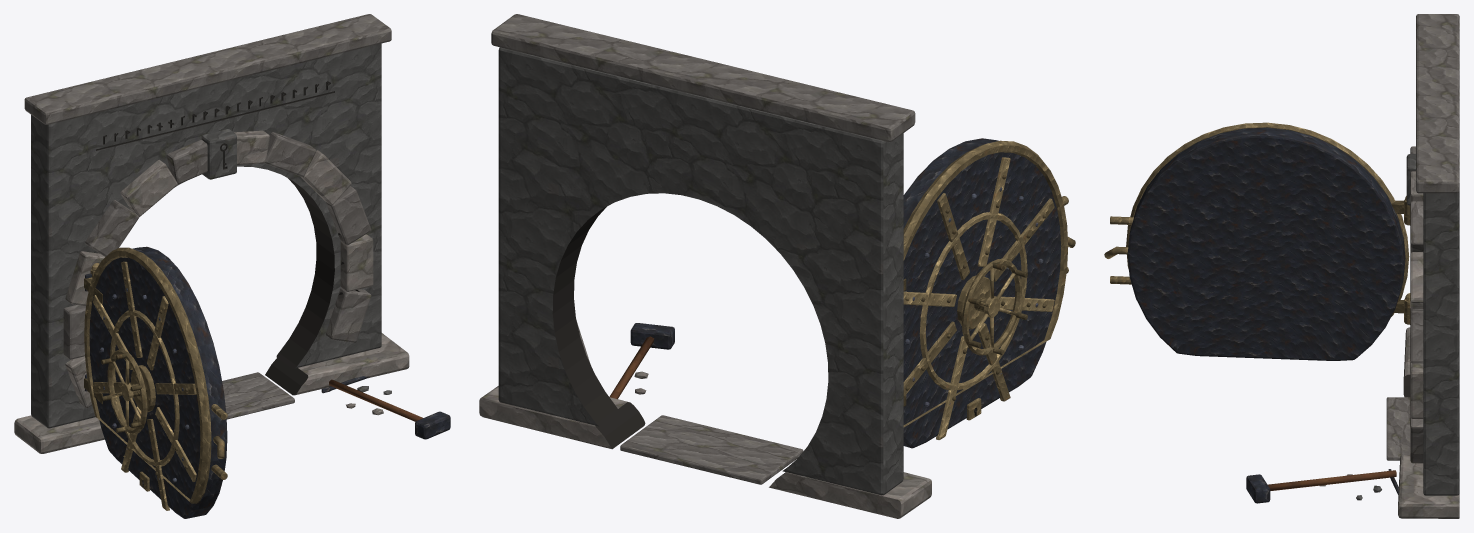
The model's file is bv_vault_door_forced.glb.
The picture shows the model from 3 angles, left to right: view 1: azimuth 30°, elevation 25°; view 2: azimuth 150°, elevation 25°; view 3: azimuth 270°, elevation 25°; orthographic projection. The views are drawn at different scales.
Visible parts, largest first — view 1: model; view 2: model; view 3: model.
Part boxes in pixels (box(x1,y1,x2,y2)): model: box(14, 14, 450, 518); model: box(479, 14, 1075, 518); model: box(1104, 14, 1459, 518).
Bounding box in the file's own units: 2.31 × 2.02 × 1.95.
Materials: 11 (10 with a texture image).
